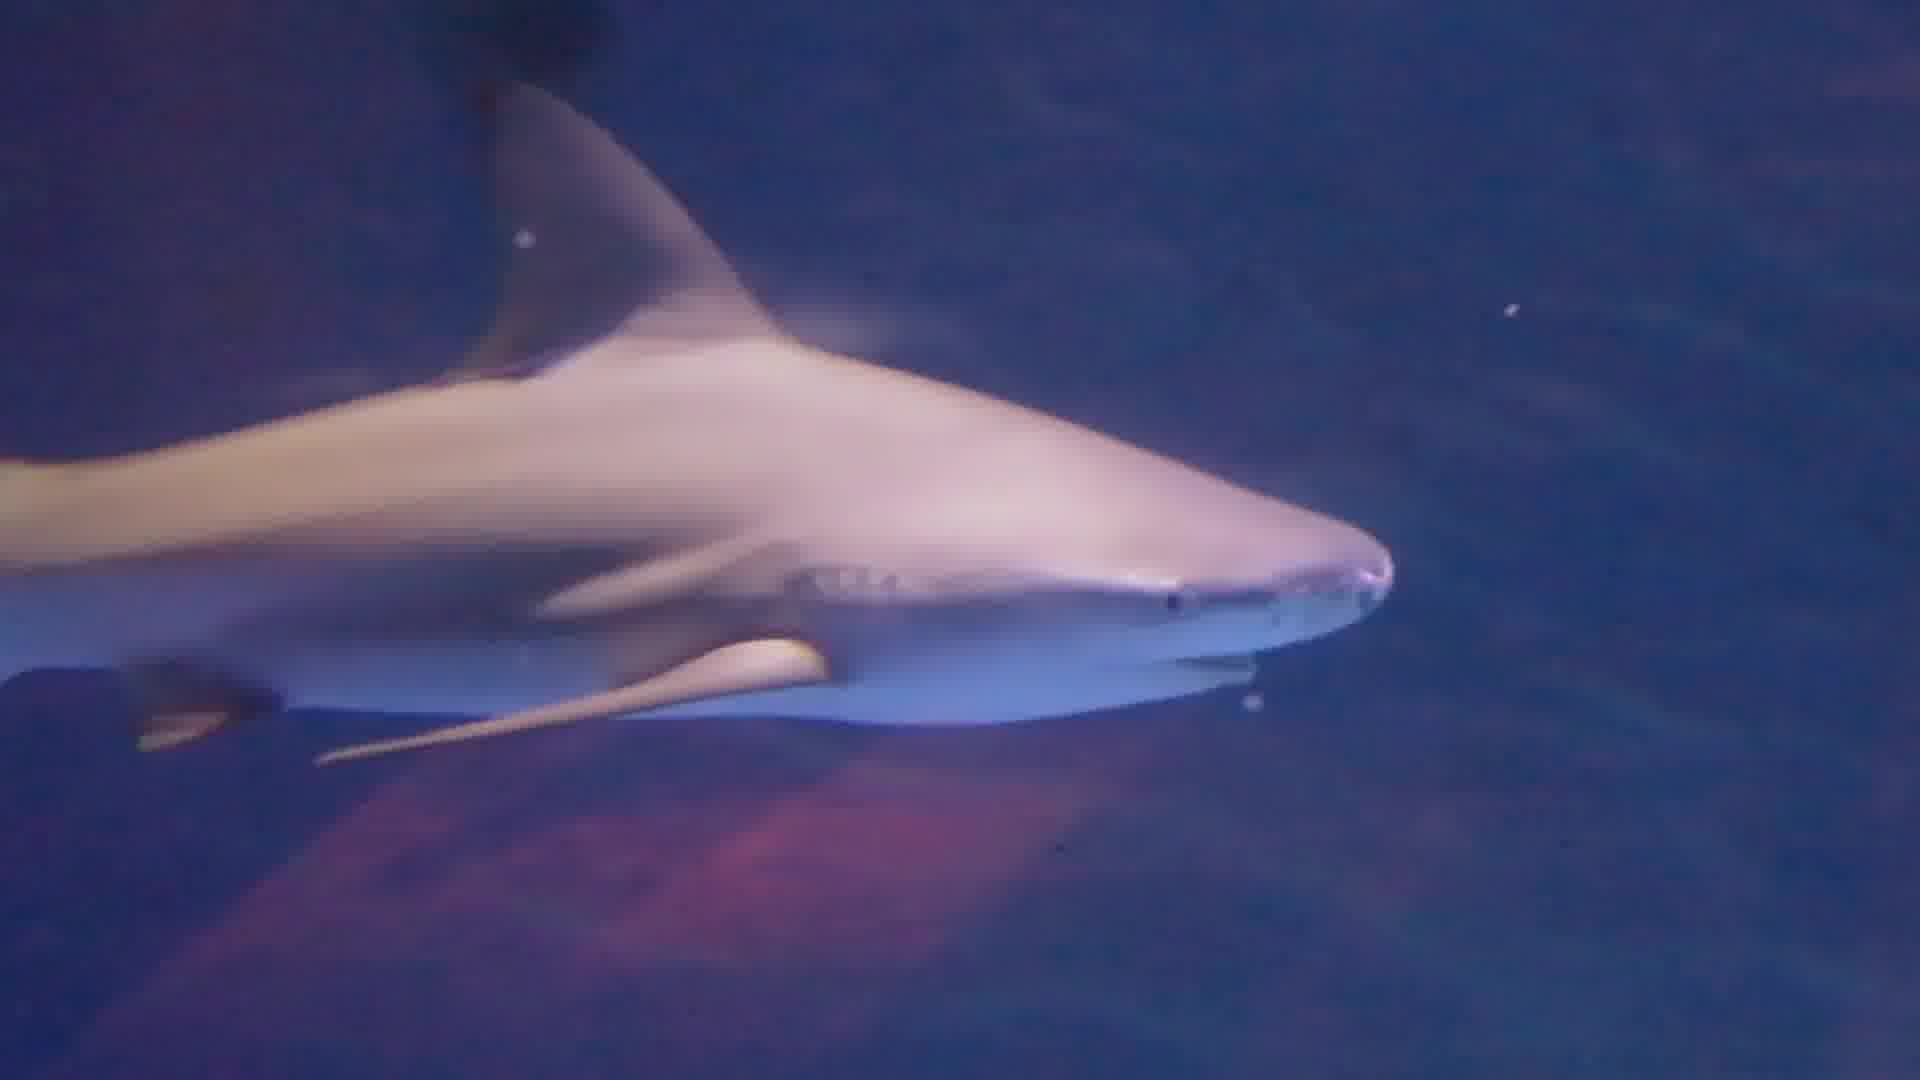Carcharhinus leucas: (1, 73, 1418, 807)
